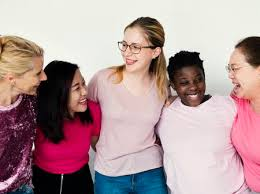person: (100, 15, 168, 122), (163, 48, 219, 145), (45, 56, 96, 140), (8, 24, 42, 140)
